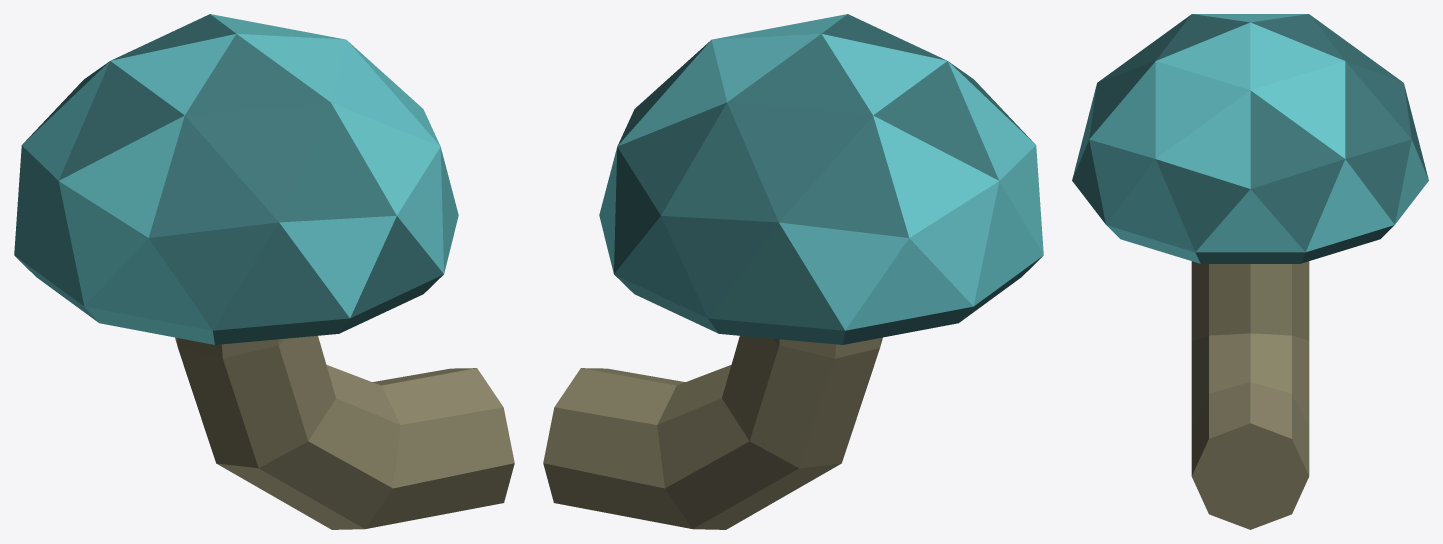
The model's file is Mushroom_5_Cyan.fbx.
The picture shows the model from 3 angles, left to right: view 1: azimuth 30°, elevation 25°; view 2: azimuth 150°, elevation 25°; view 3: azimuth 270°, elevation 25°; orthographic projection. The views are drawn at different scales.
Visible parts, largest first — view 1: Mushroom_5_Cyan; view 2: Mushroom_5_Cyan; view 3: Mushroom_5_Cyan.
Part boxes in pixels (x1,y1,x2,y2): Mushroom_5_Cyan: (14, 14, 514, 529); Mushroom_5_Cyan: (543, 14, 1043, 529); Mushroom_5_Cyan: (1072, 14, 1428, 529).
Bounding box in the file's own units: 33.07 × 39 × 30.39.
